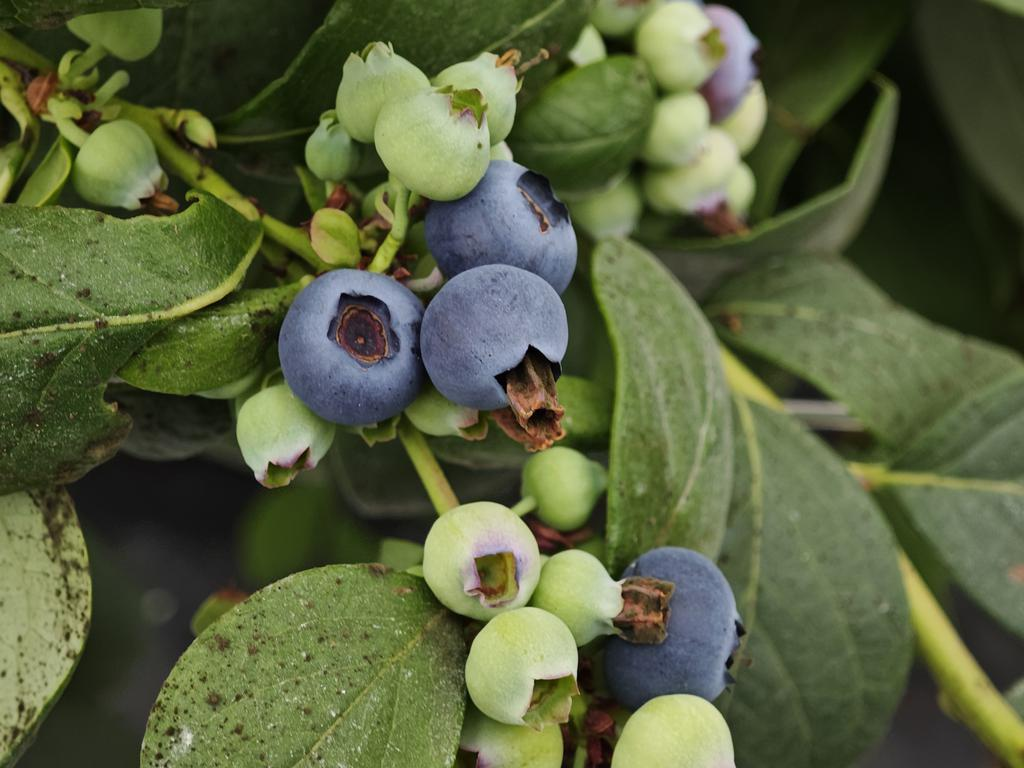RipeBlueBerry: (277, 265, 427, 430), (422, 259, 573, 417), (599, 547, 743, 707), (422, 158, 581, 291)
UnripeBlueBerry: (420, 498, 545, 619), (464, 603, 583, 729)
